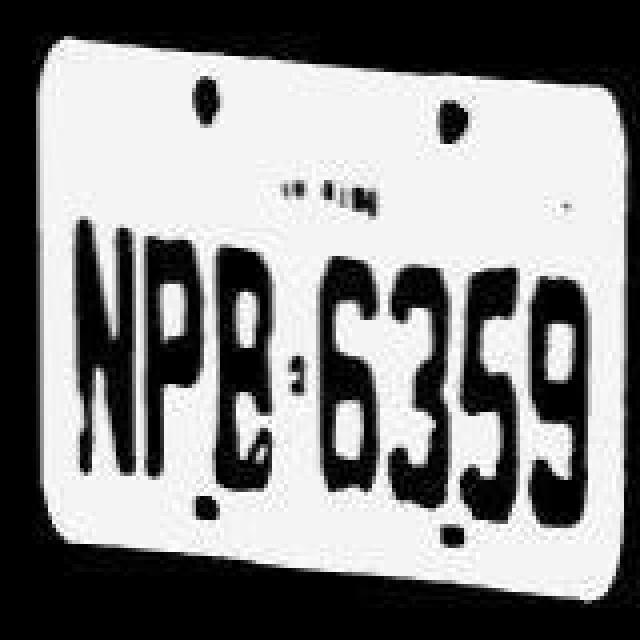3: (384, 256, 452, 520)
5: (456, 264, 524, 528)
6: (310, 246, 382, 506)
9: (520, 264, 596, 536)
B: (210, 236, 282, 500)
N: (66, 202, 138, 486)
P: (136, 228, 204, 484)
